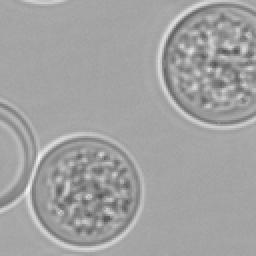picoshell: (26, 136, 140, 250), (158, 0, 254, 128), (0, 98, 38, 212), (20, 0, 66, 4)
